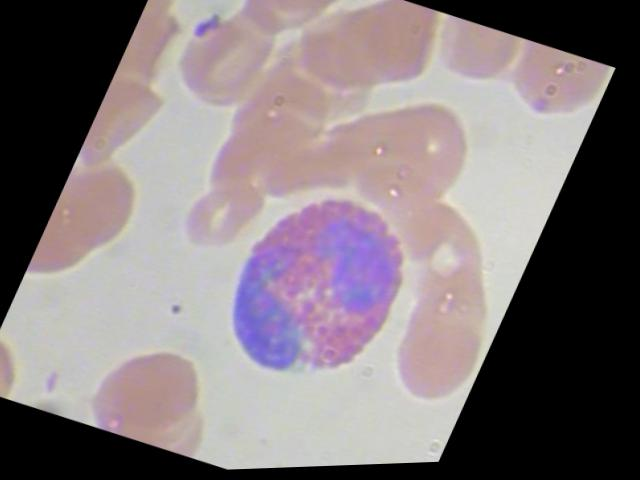Platelets: (186, 4, 226, 45)
Red Blood Cells: (342, 83, 494, 237), (87, 329, 227, 456), (381, 305, 501, 418), (491, 39, 620, 144), (44, 151, 162, 265), (417, 15, 528, 108), (175, 173, 273, 262), (252, 0, 352, 30)
White Blood Cells: (191, 163, 452, 422)
